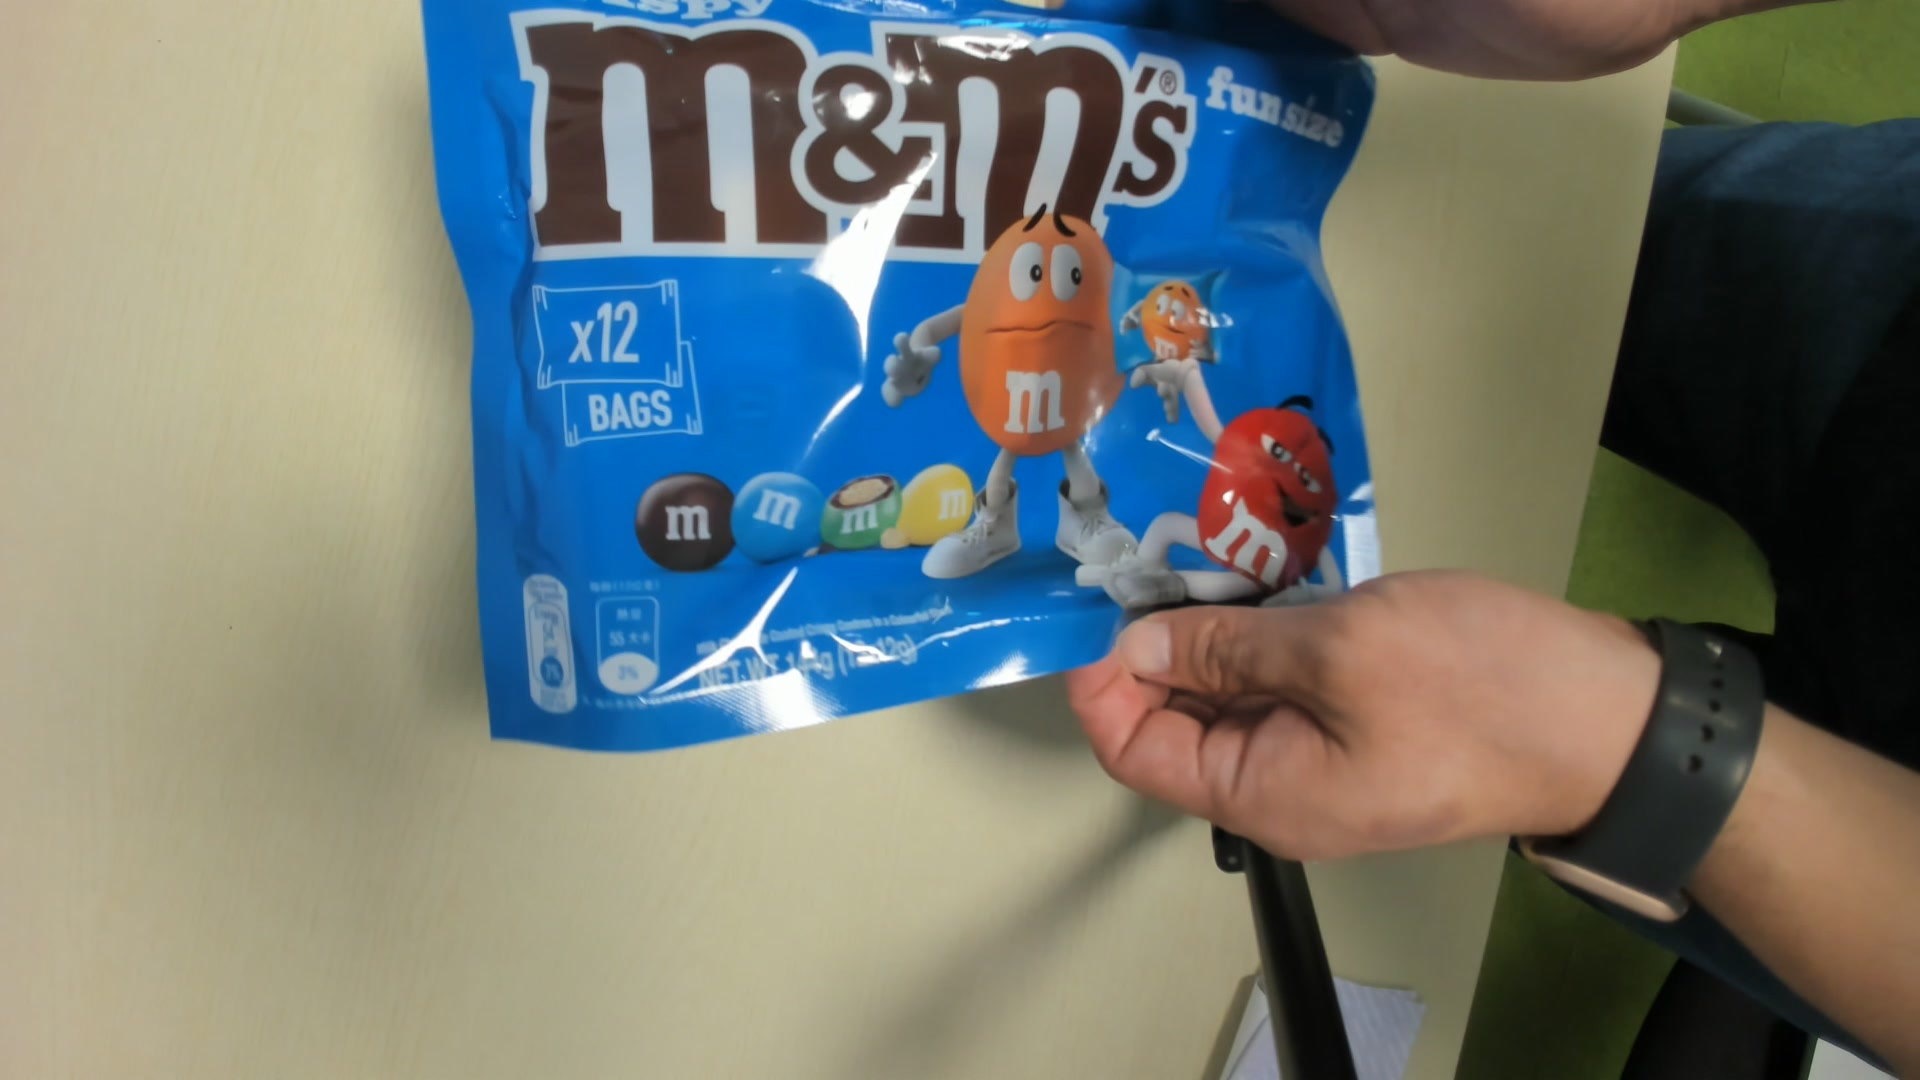SweetsChocolatesOthers_100-199g_Halal_Nonhealthy: (419, 1, 1386, 746)
